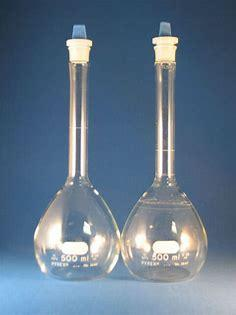Volumetric flask: (125, 12, 210, 286), (32, 19, 120, 282)
